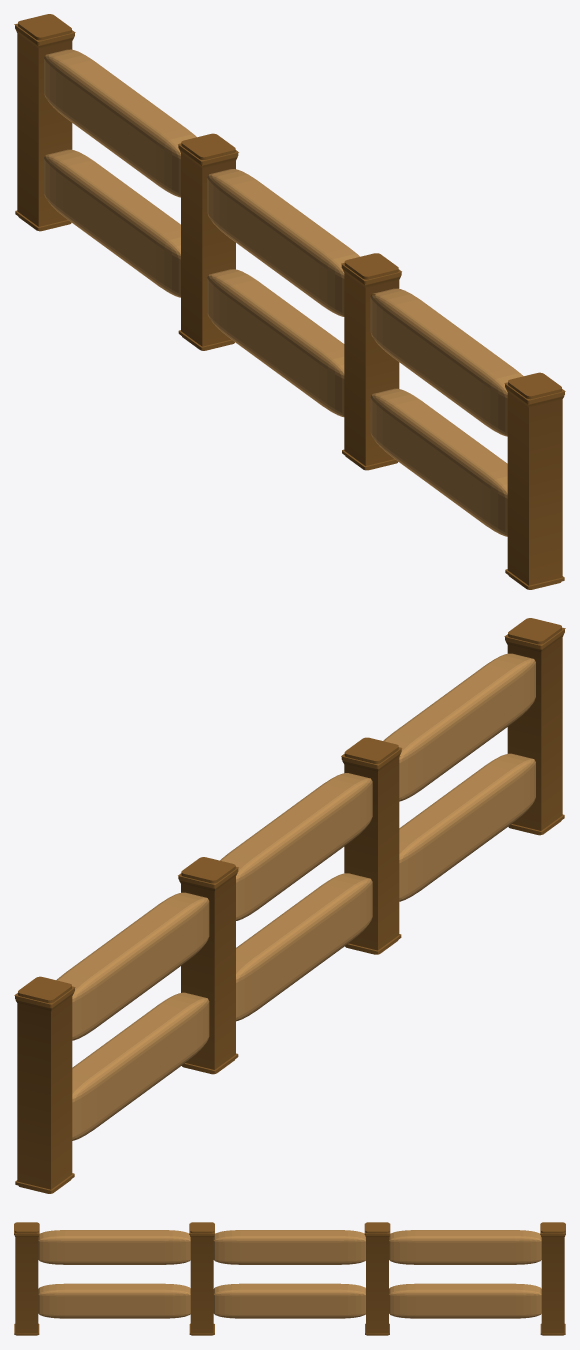
File: Pared DER.fbx
3 views of the same model, one above another, from view 1: azimuth 30°, elevation 25°; view 2: azimuth 150°, elevation 25°; view 3: azimuth 270°, elevation 25° (orthographic). The views are drawn at different scales.
Parts seen in each view (by area): view 1: Pared DER; view 2: Pared DER; view 3: Pared DER.
Boxes of the visible parts, x1,y1,x2,y2 form: Pared DER: [14, 14, 565, 589]; Pared DER: [14, 618, 565, 1193]; Pared DER: [14, 1222, 565, 1335].
Size of the model in its own units: 13.18 by 64.44 by 310.
